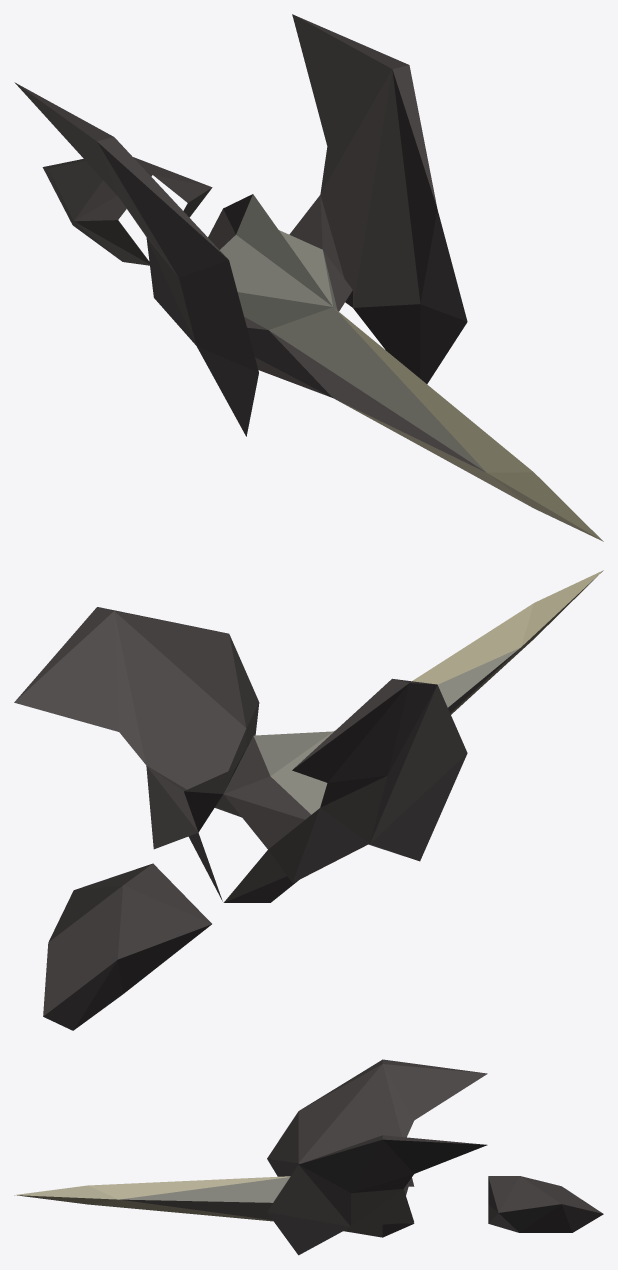
The model's file is player_avernic_defender.glb.
3 views of the same model, one above another, from view 1: azimuth 30°, elevation 25°; view 2: azimuth 150°, elevation 25°; view 3: azimuth 270°, elevation 25° (orthographic). The views are drawn at different scales.
Size of the model in its own units: 18 by 13.99 by 55.99.
Materials: 1 (1 with a texture image).
